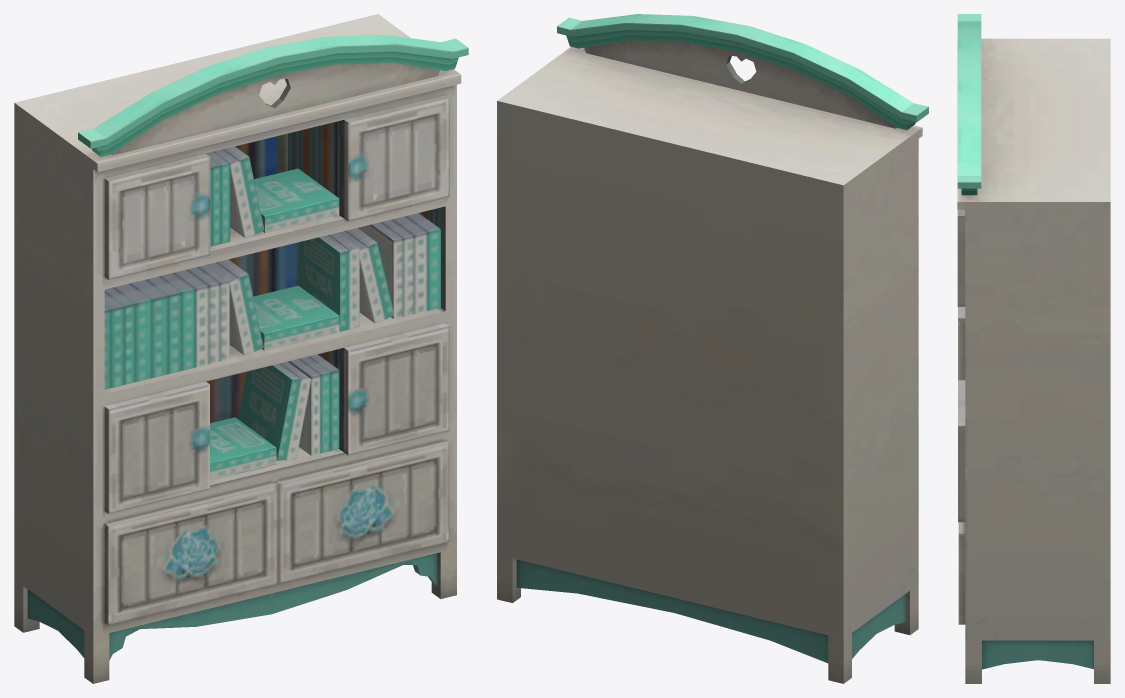
The model's file is furni_0200615_03.FBX.
The picture shows the model from 3 angles, left to right: view 1: azimuth 30°, elevation 25°; view 2: azimuth 150°, elevation 25°; view 3: azimuth 270°, elevation 25°; orthographic projection. The views are drawn at different scales.
Visible parts, largest first — view 1: furni_0200615_03; view 2: furni_0200615_03; view 3: furni_0200615_03.
Part boxes in pixels (x1,y1,x2,y2): furni_0200615_03: (14, 14, 468, 683); furni_0200615_03: (497, 14, 928, 683); furni_0200615_03: (957, 14, 1110, 683).
Bounding box in the file's own units: 166 × 246 × 63.29.
Materials: 1 (1 with a texture image).
